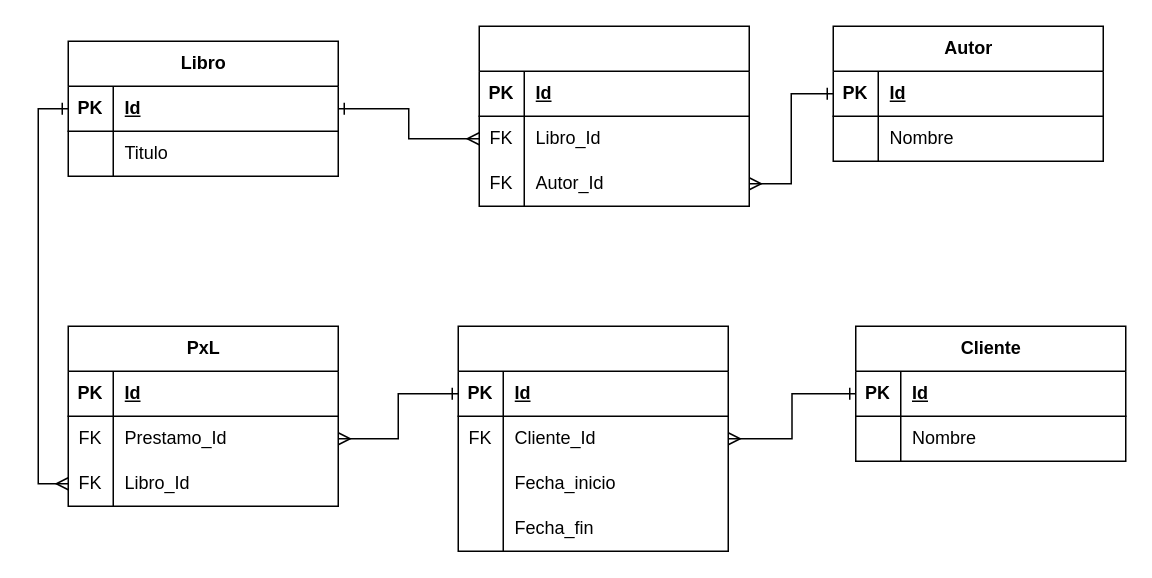
This 1152x578 diagram has some shape labels left out. The shapes that lost their labels are listed below. From the top down, each one's box as (x1, y1, x2, y2) in pixels, then its label:
(478, 25, 749, 206): LxA
(457, 325, 728, 551): Prestamo
